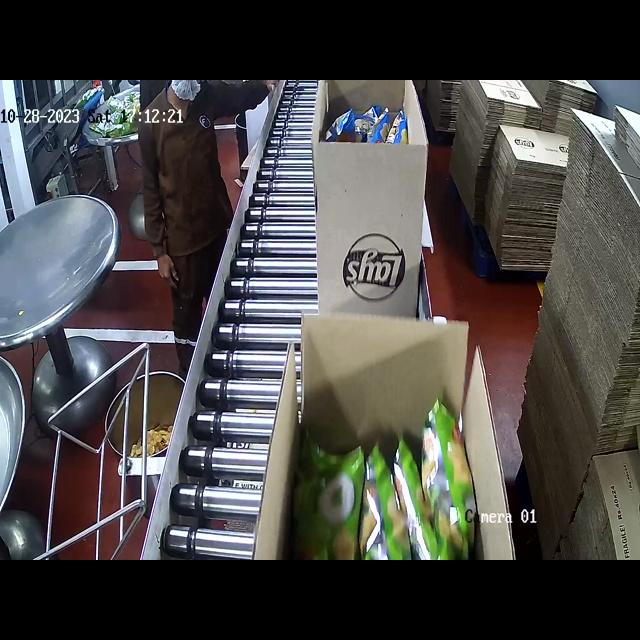paprika: (329, 96, 422, 139)
yogurt: (311, 427, 492, 560)
